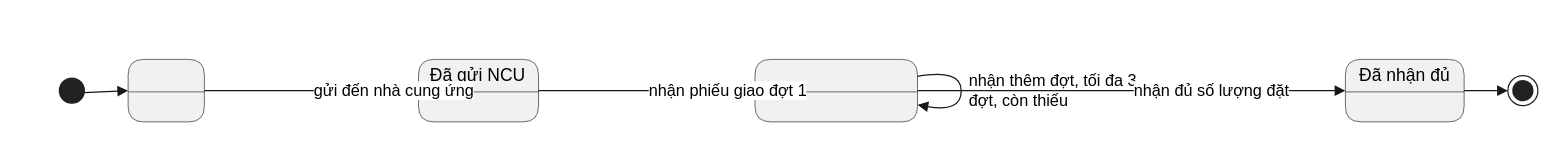
This 1560x144 diagram has some shape labels left out. Each missing label, with the centre of its shape:
"Đang nhận hàng" goes at point (835, 90).
"Đã lập" goes at point (165, 90).
